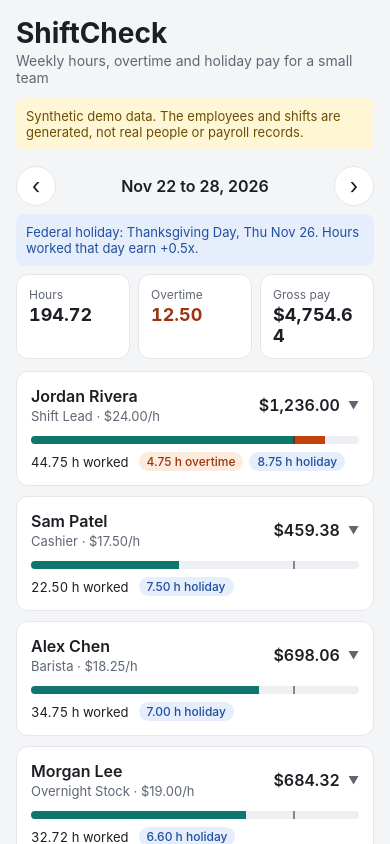
Test case: explains overnight shifts that cross the workweek boundary
Click the button labelled "Morgan Lee Overnight Stock · $19.00/h $684.32 ▼" at (195, 780), box [31,761,359,799]
(page scrolled)
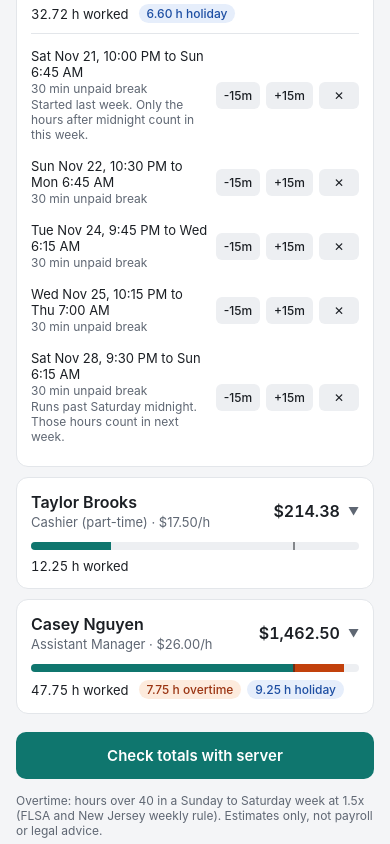
Check: the text "Started last week. Only the hours after midnight count in this week." is shown, box [31,97,208,142]
Check: the text "Runs past Saturday midnight. Those hours count in next week." is shown, box [31,399,208,444]
